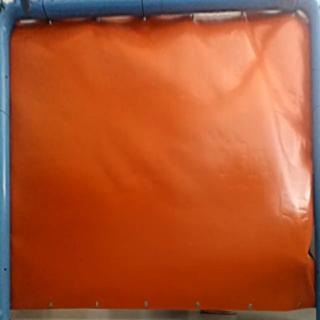Hit-hRxx: (299, 255, 313, 270)
